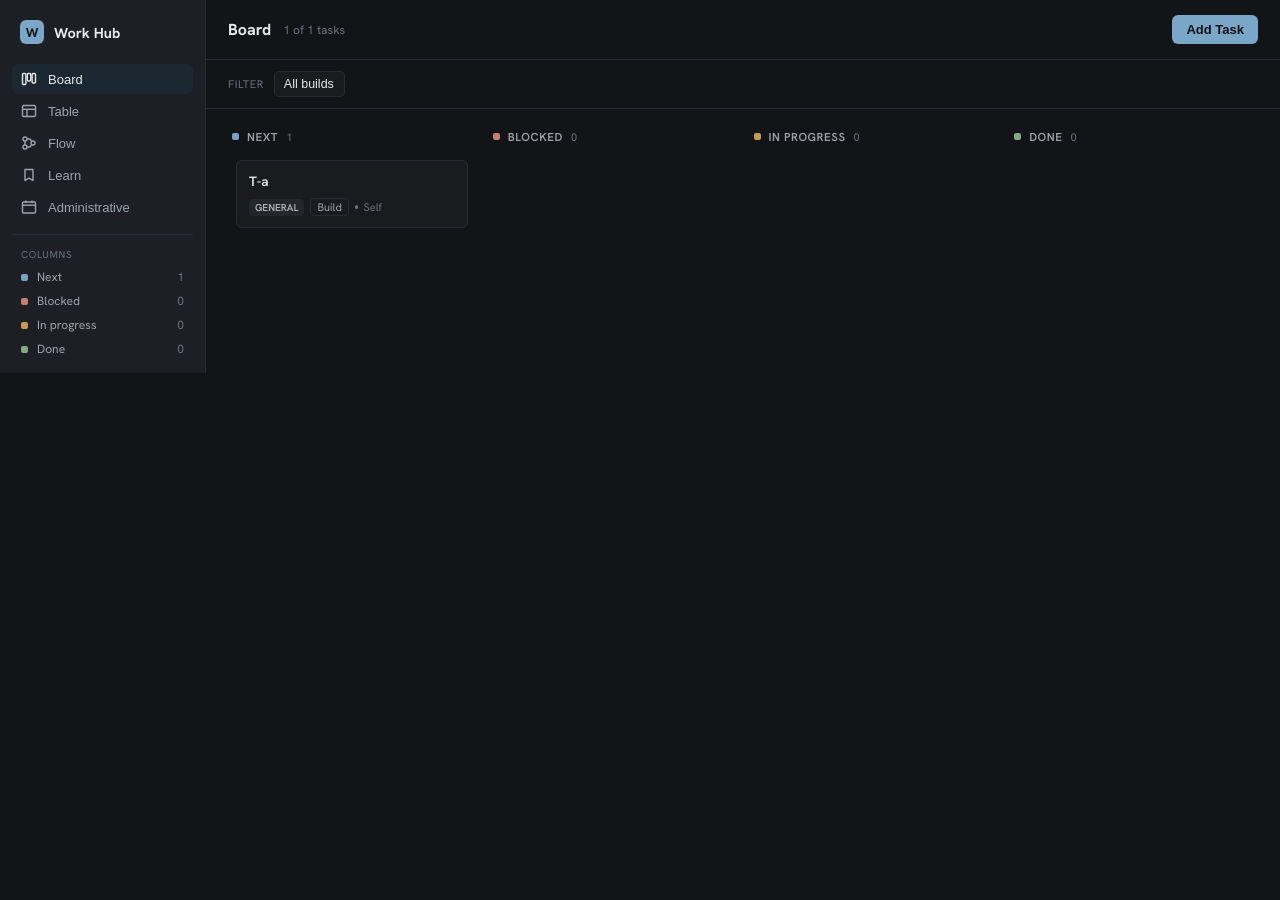
Test: AppClient optimistic move › adds a task via the modal and makes it draggable with the real id
This screenshot has width=1280, height=900.
Click the button "Add Task": [1215, 30] box [1172,15,1258,44]
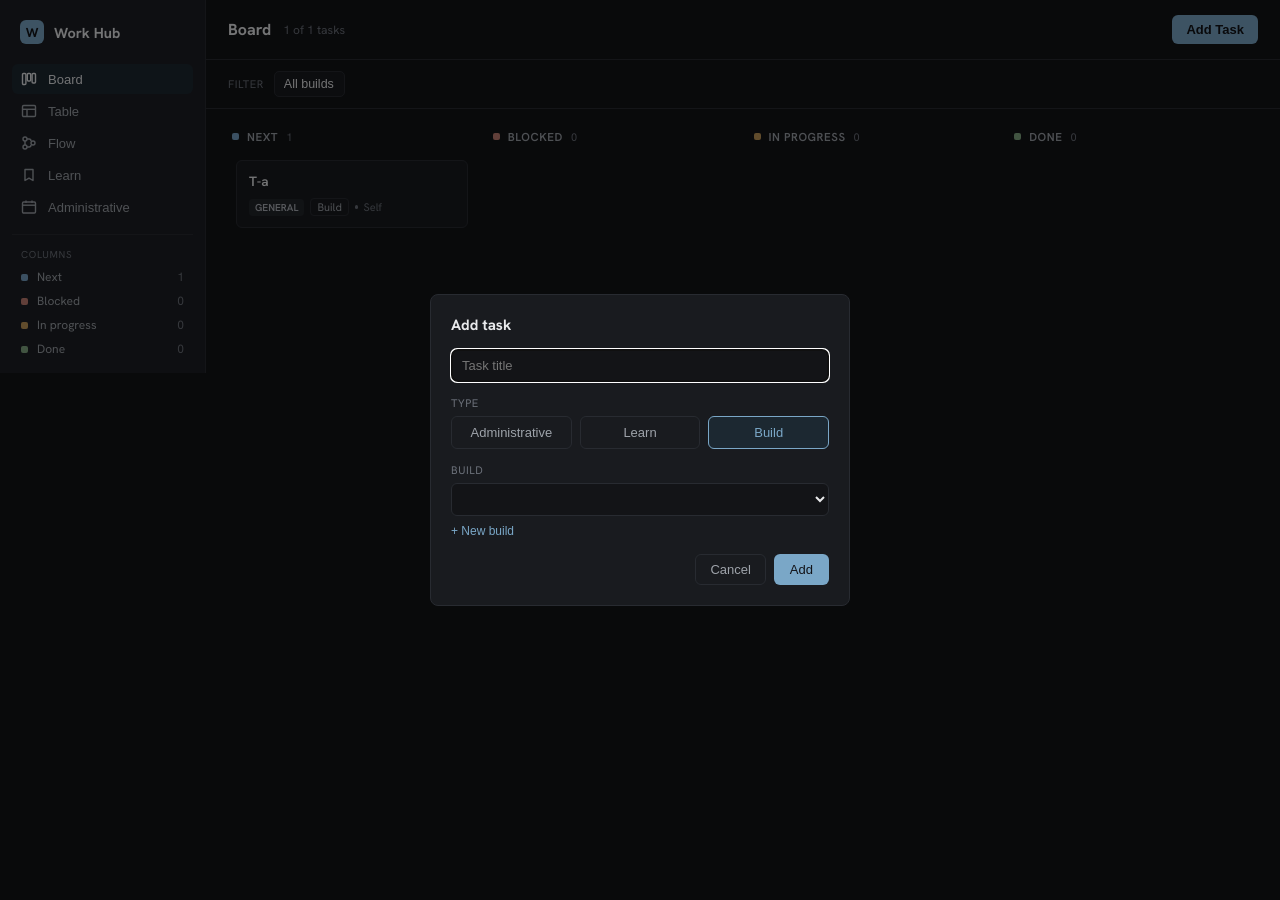
In the field labelled "Task title": [640, 366] box [451,349,829,382], type "New thing"
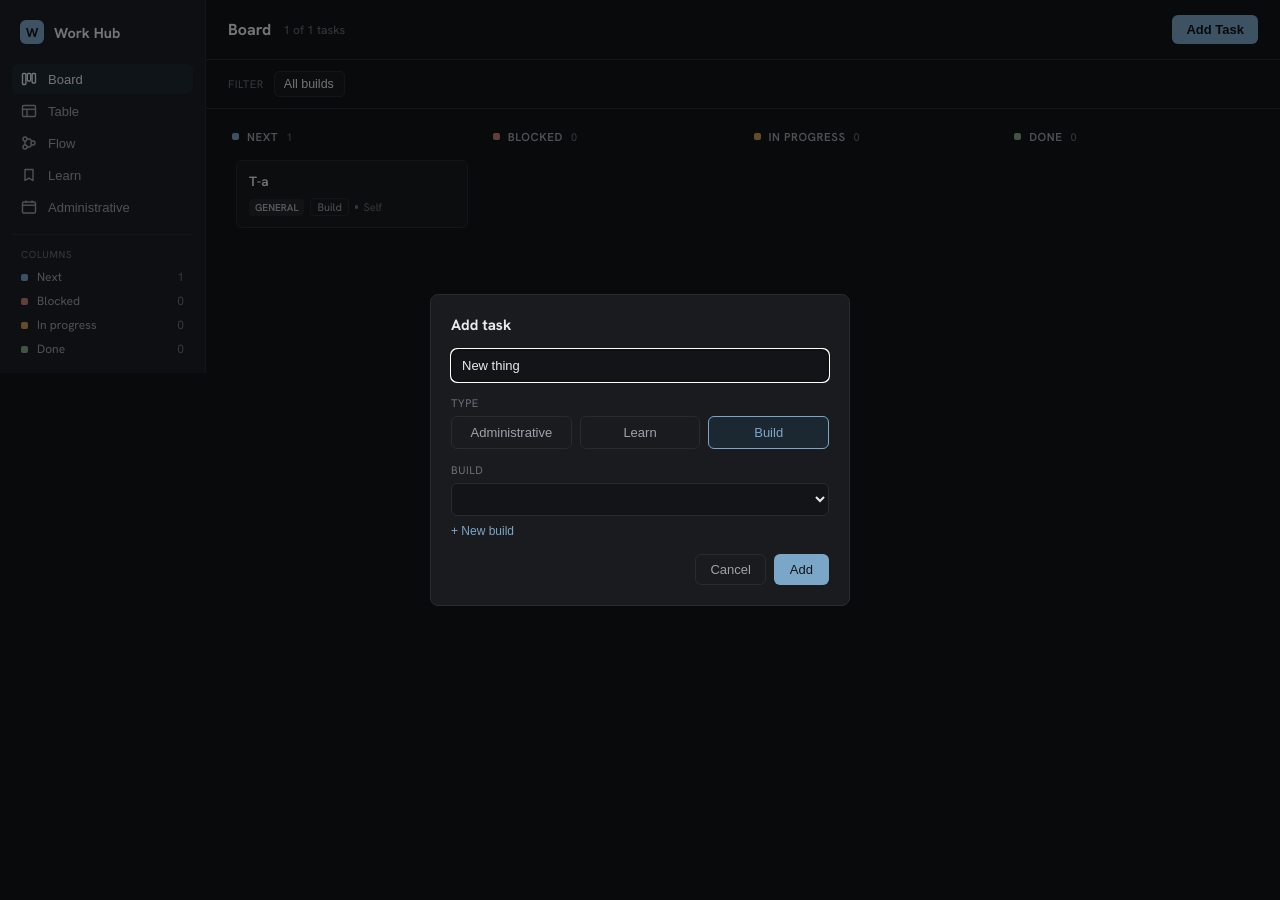
Click the button "Add": [801, 570] box [774,554,829,585]
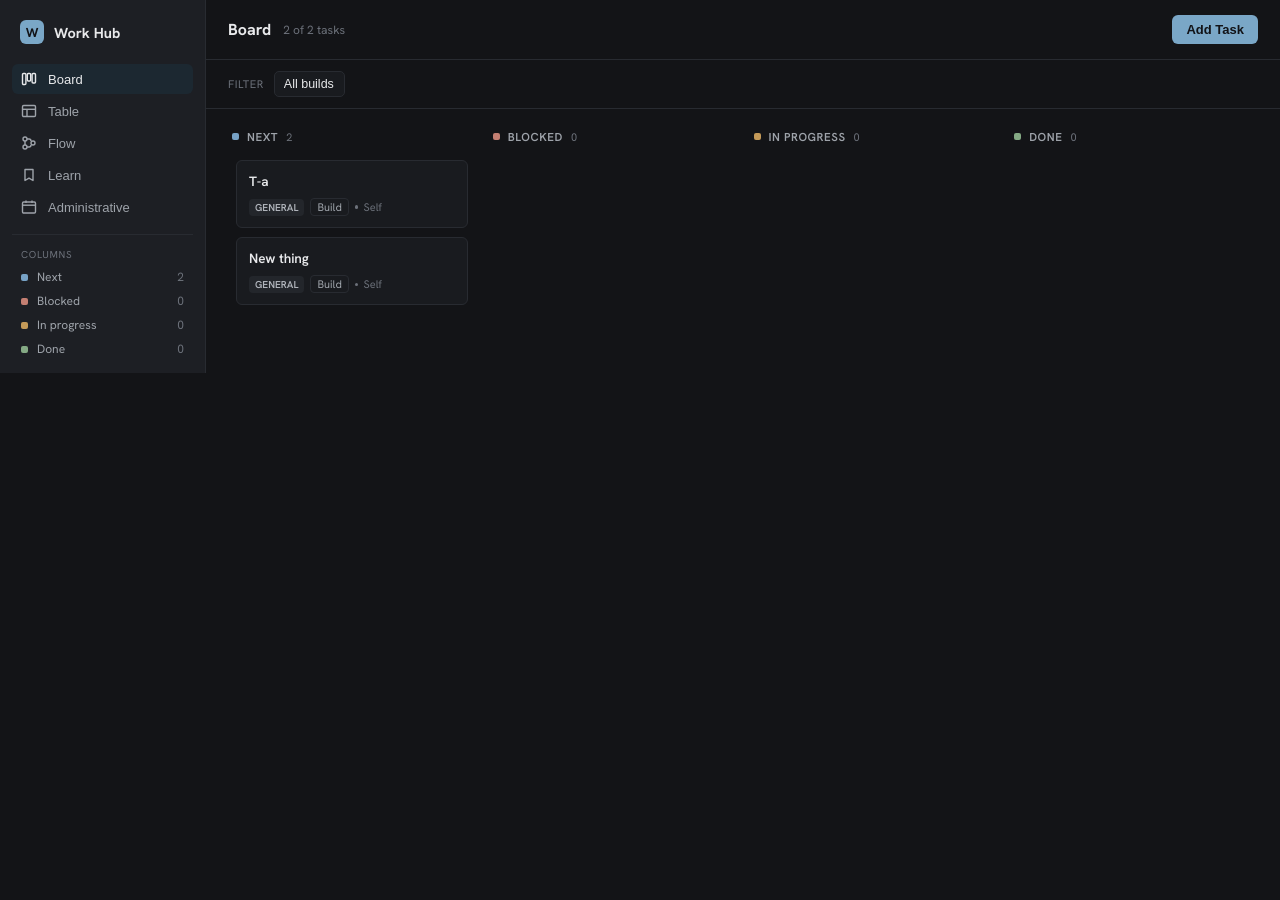
Expected: the text "New thing" is shown, [249,249,309,267]
